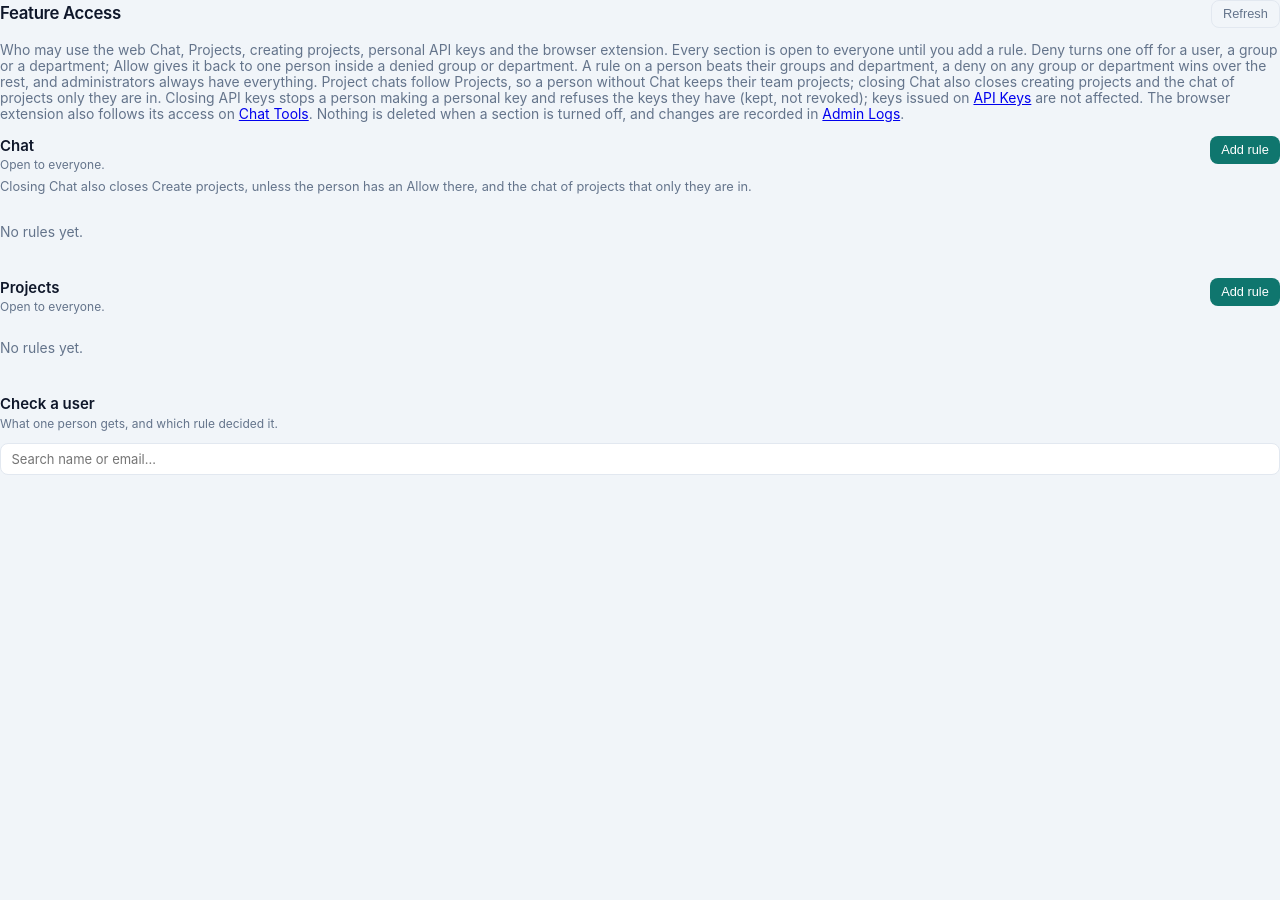
Test: the Feature Access page › adds a department rule
Click the 2nd button "Add rule". click: click(1245, 292)
box: [1210,278,1279,306]
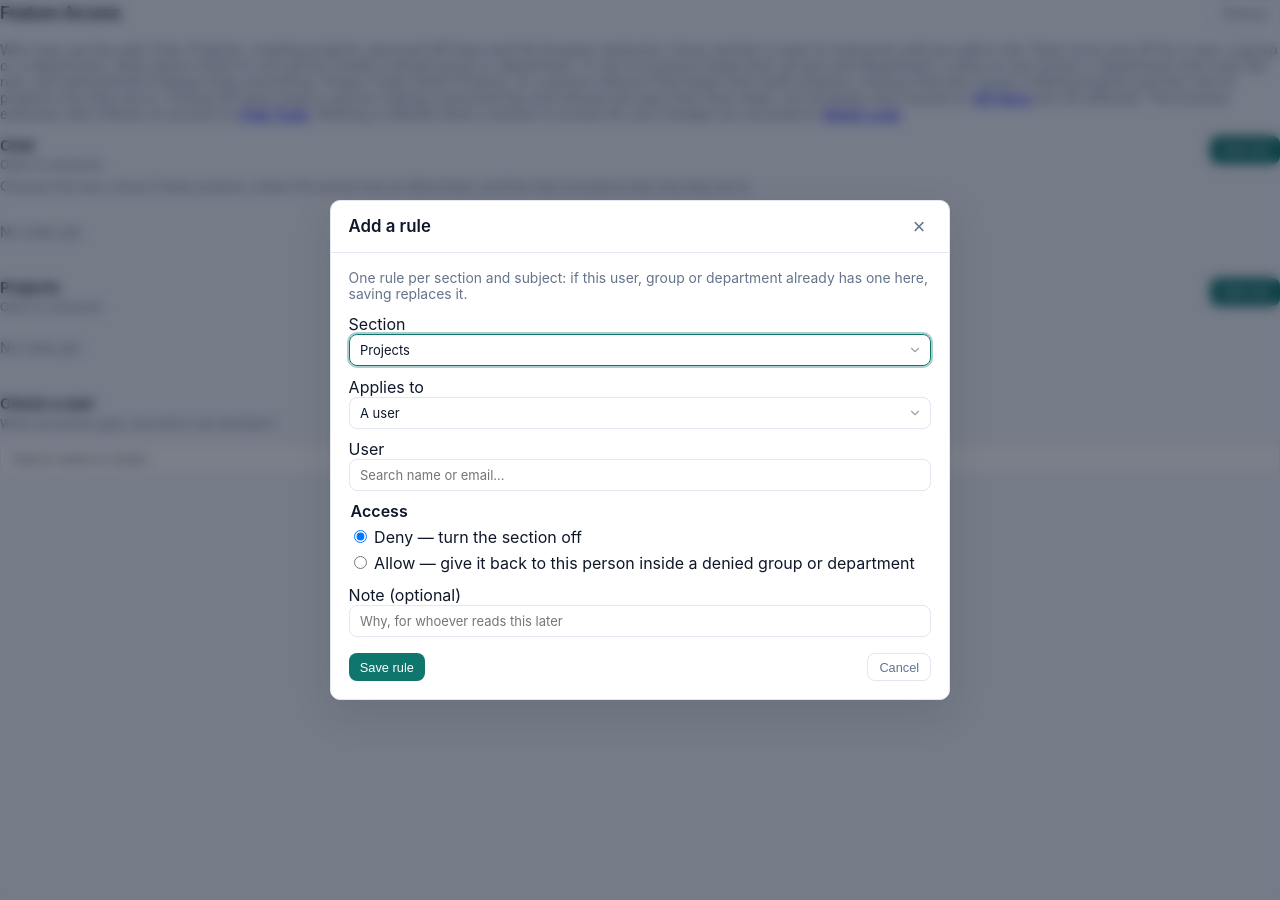
Select "A department" in the dropdown with id "feature-access-target-type". click: (640, 413)
box: [349,397,931,429]
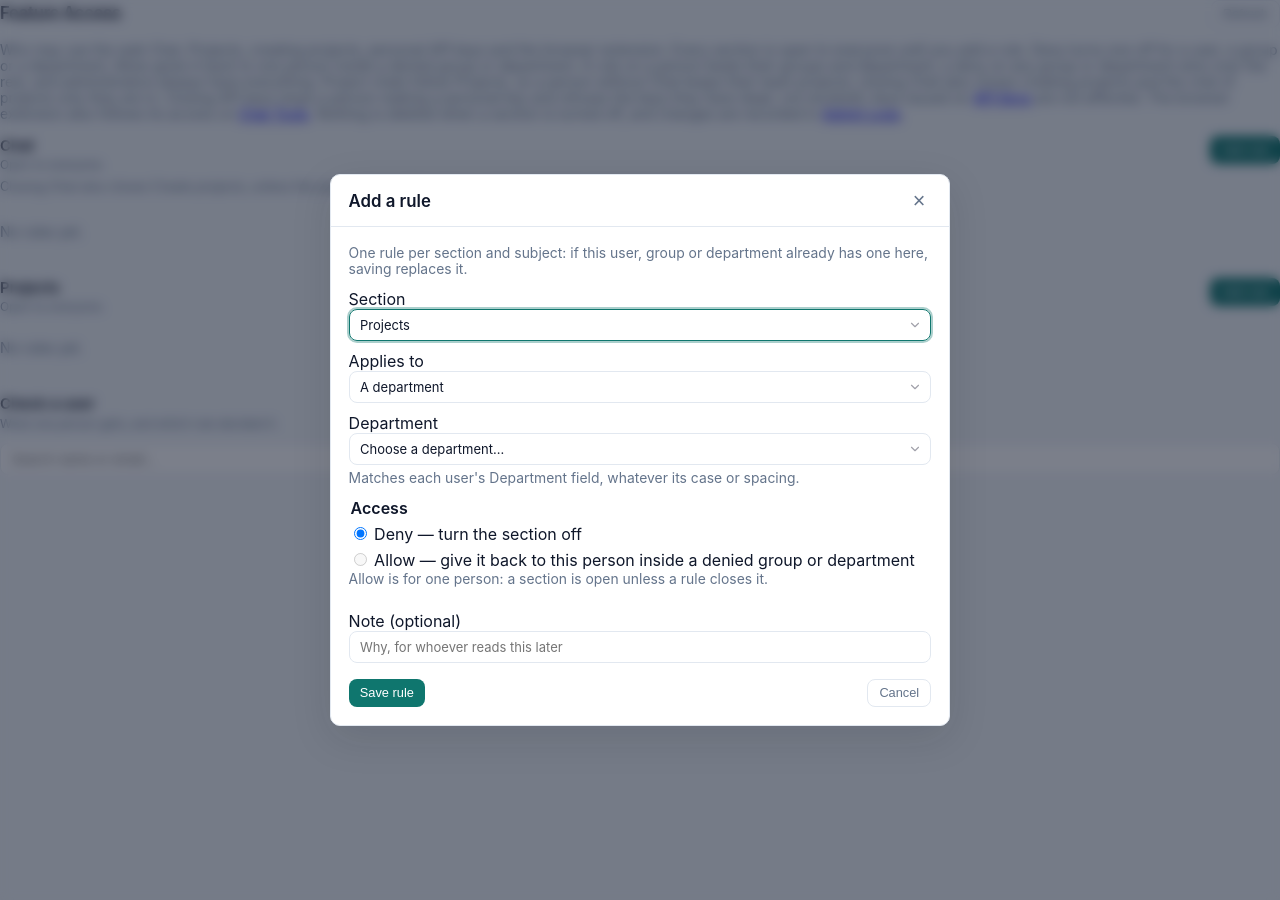
Result: the 2nd radio button is disabled at [354,553,367,566]
Select "Sales (4 users)" in the dropdown with id "feature-access-department". click: (640, 450)
box: [349,434,931,466]
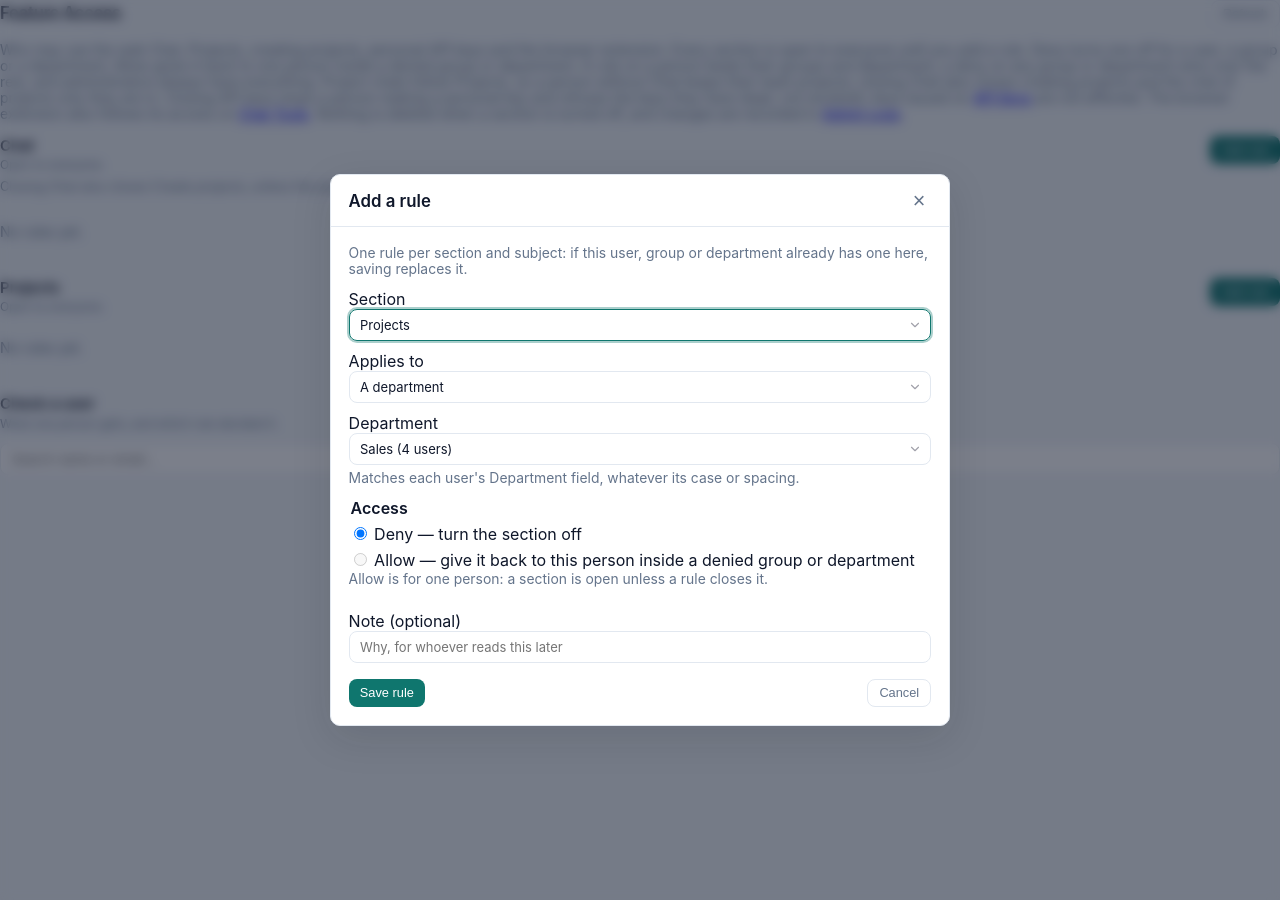
Click the button "Save rule". click: click(387, 693)
box: [349,679,425,707]
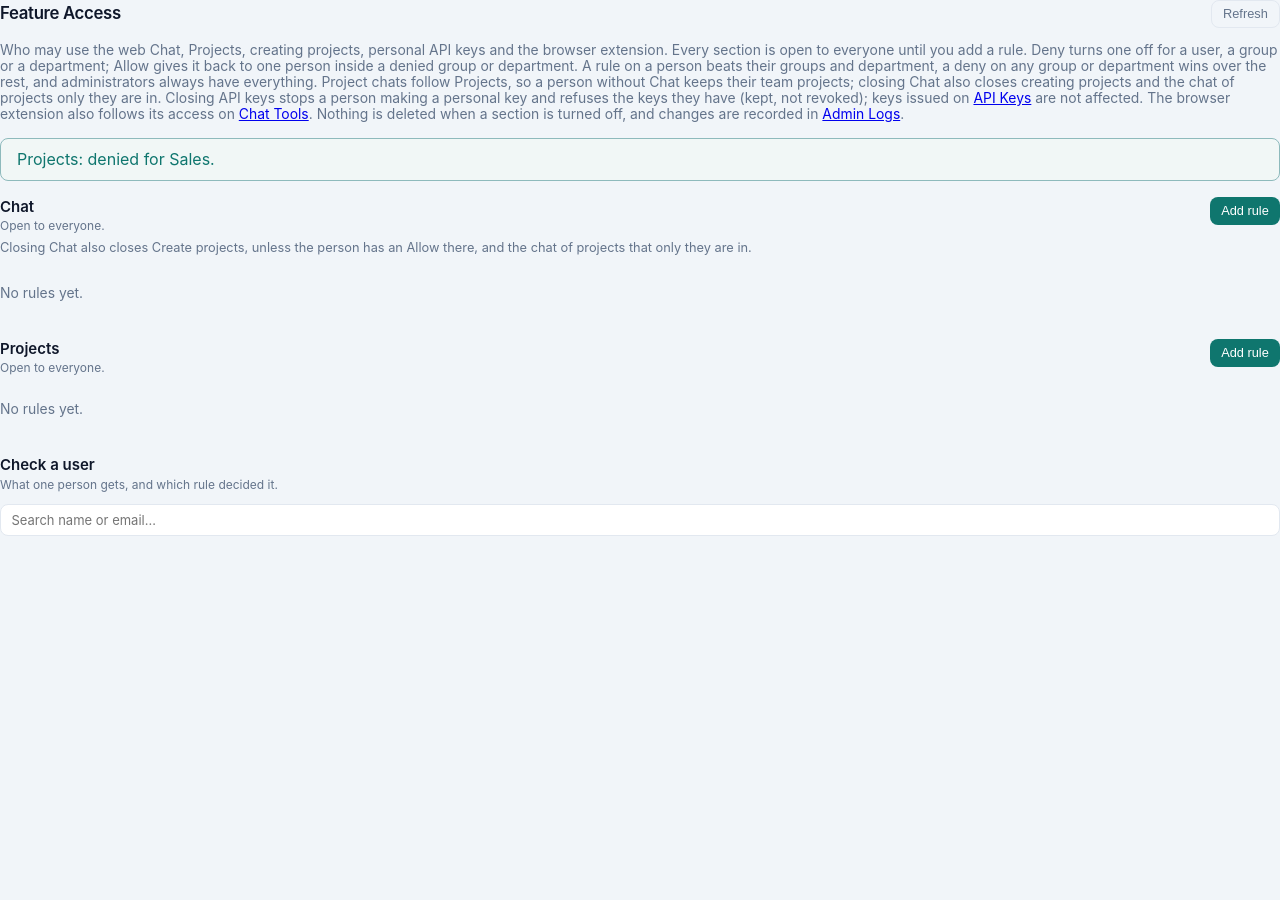
Result: the text "Projects: denied for Sales." is shown at [0,138,1279,181]
